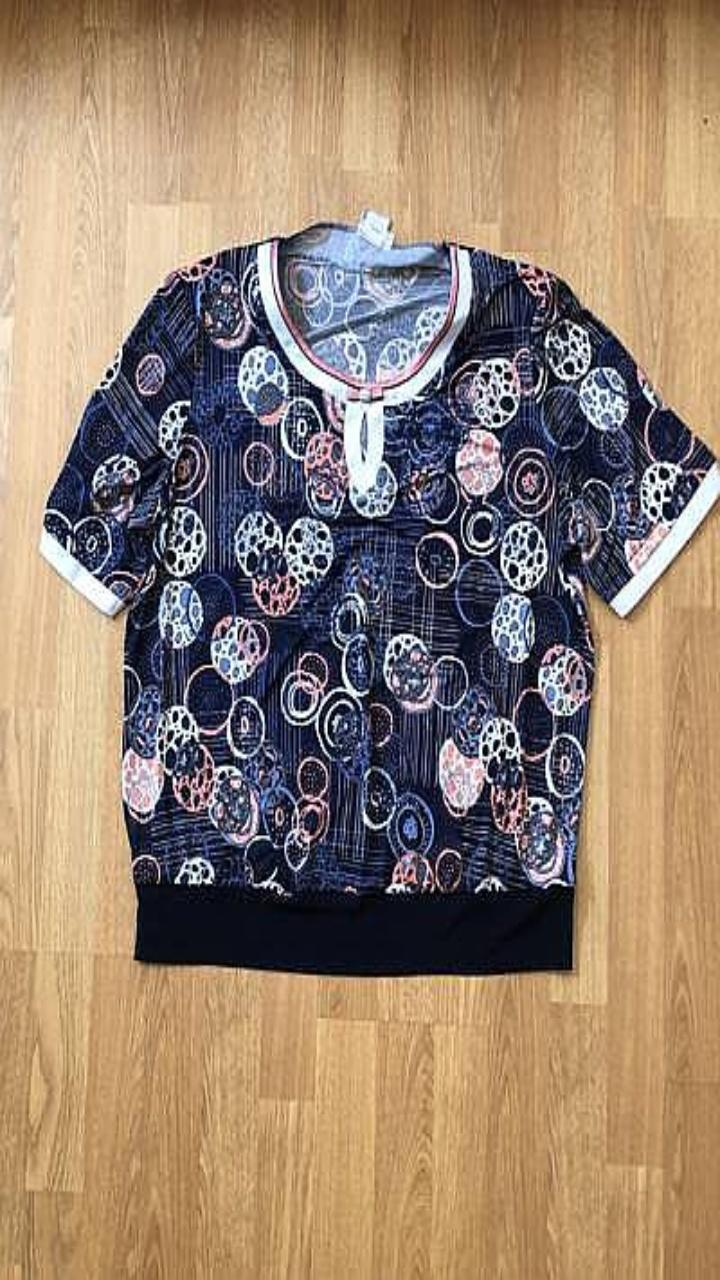T-Shirt: (40, 211, 719, 973)
